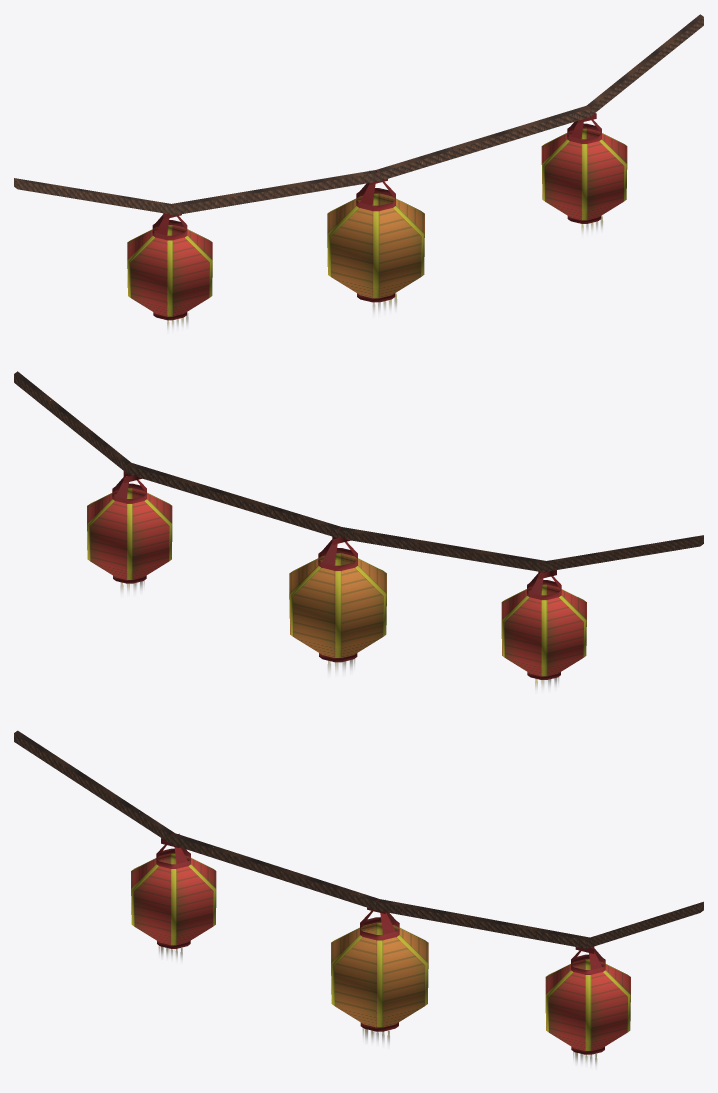
Rendered from LampWreath.glb.
The picture shows the model from 3 angles, top to bottom: view 1: azimuth 30°, elevation 25°; view 2: azimuth 150°, elevation 25°; view 3: azimuth 330°, elevation 25°; orthographic projection.
Parts seen in each view (by area): view 1: LampWreath; view 2: LampWreath; view 3: LampWreath.
Boxes of the visible parts, x1,y1,x2,y2 form: LampWreath: [14, 14, 703, 329]; LampWreath: [14, 371, 703, 688]; LampWreath: [14, 730, 703, 1065].
Bounding box in the file's own units: 6.66 × 2.15 × 0.8206.
3 materials, 3 textured.
